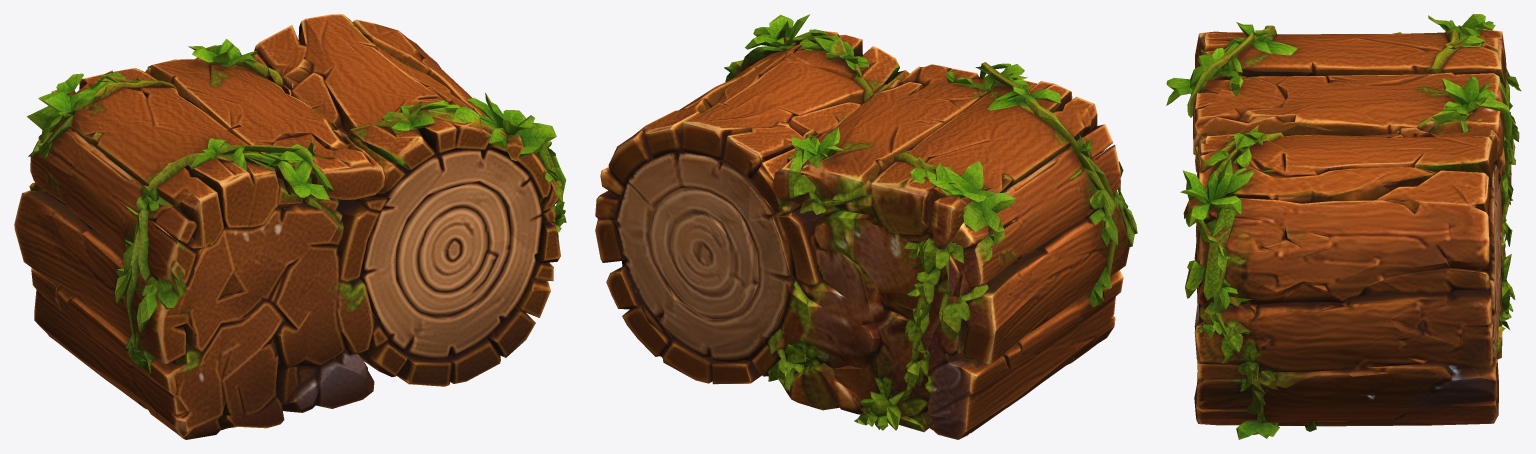
The model's file is log.glb.
3 views of the same model, side by side, from view 1: azimuth 30°, elevation 25°; view 2: azimuth 150°, elevation 25°; view 3: azimuth 270°, elevation 25° (orthographic). The views are drawn at different scales.
Size of the model in its own units: 1.9 by 1.16 by 1.33.
1 material, 1 textured.
